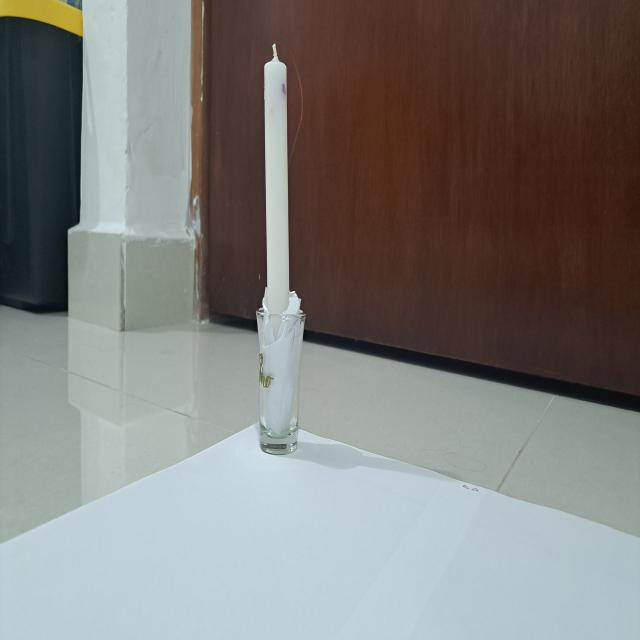candle: (251, 36, 310, 460)
